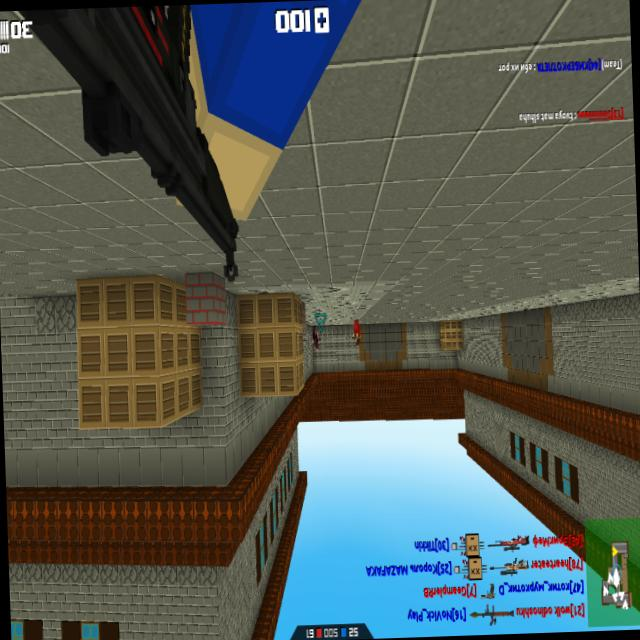enemy: (352, 318, 362, 345), (311, 324, 319, 351)
